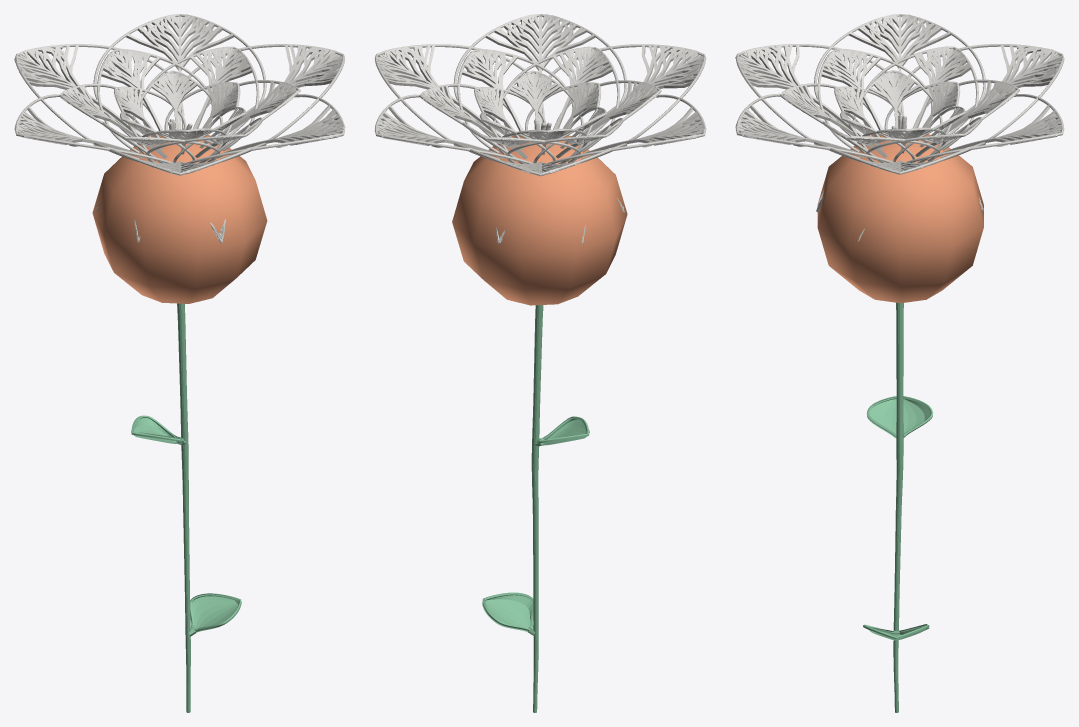
File: flower-test-bundle.glb
3 renders of one model, left to right at view 1: azimuth 30°, elevation 25°; view 2: azimuth 150°, elevation 25°; view 3: azimuth 270°, elevation 25°, orthographic.
Visible parts, largest first — view 1: bloom, pivot_marker, stem; view 2: bloom, pivot_marker, stem; view 3: bloom, pivot_marker, stem.
Part boxes in pixels (bbox=[...]): bloom: bbox=[14, 14, 345, 243]; pivot_marker: bbox=[92, 135, 267, 303]; stem: bbox=[131, 303, 241, 712]; bloom: bbox=[374, 14, 706, 244]; pivot_marker: bbox=[452, 135, 627, 305]; stem: bbox=[482, 305, 589, 712]; bloom: bbox=[735, 14, 1064, 241]; pivot_marker: bbox=[817, 134, 983, 303]; stem: bbox=[863, 302, 933, 712].
Bounding box in the file's own units: 104 × 188 × 91.13.
